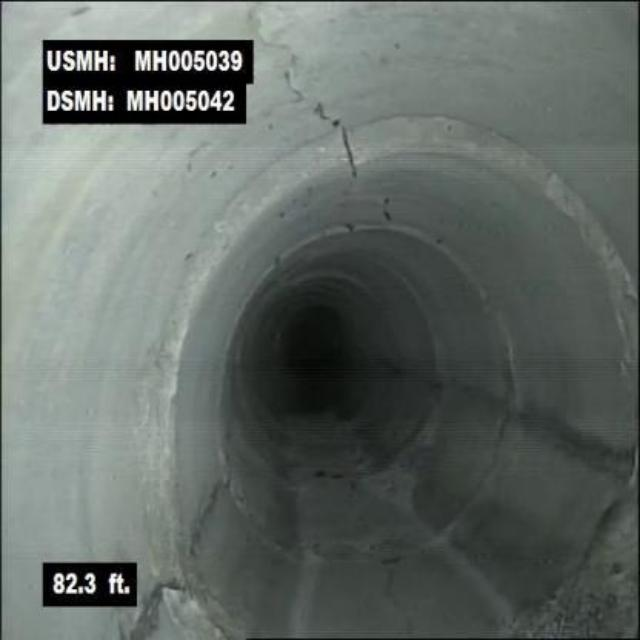Crack: (246, 6, 340, 126), (188, 477, 228, 577), (131, 577, 183, 638), (382, 565, 425, 638), (340, 125, 360, 177)
Joint offset: (363, 112, 577, 178), (555, 183, 635, 300), (217, 138, 314, 217), (162, 223, 223, 315)
